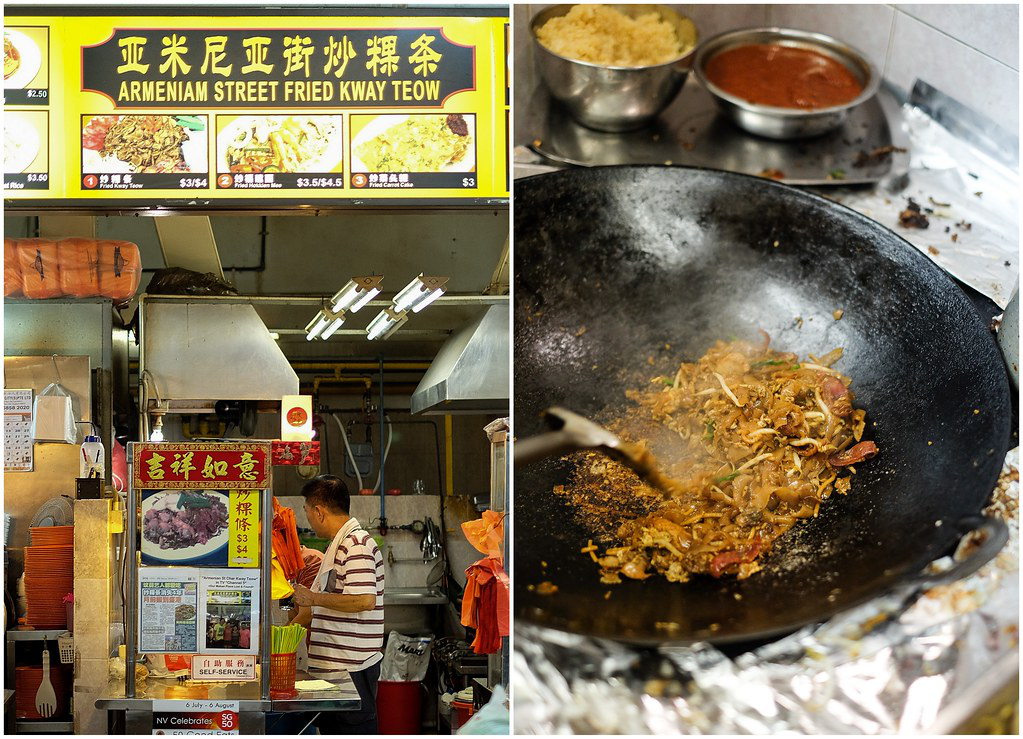Char Kway Teow: (610, 294, 880, 588)
